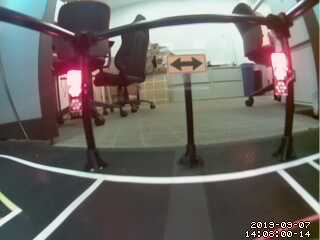Left_Right_sign: (272, 51, 290, 102), (66, 70, 83, 117)
